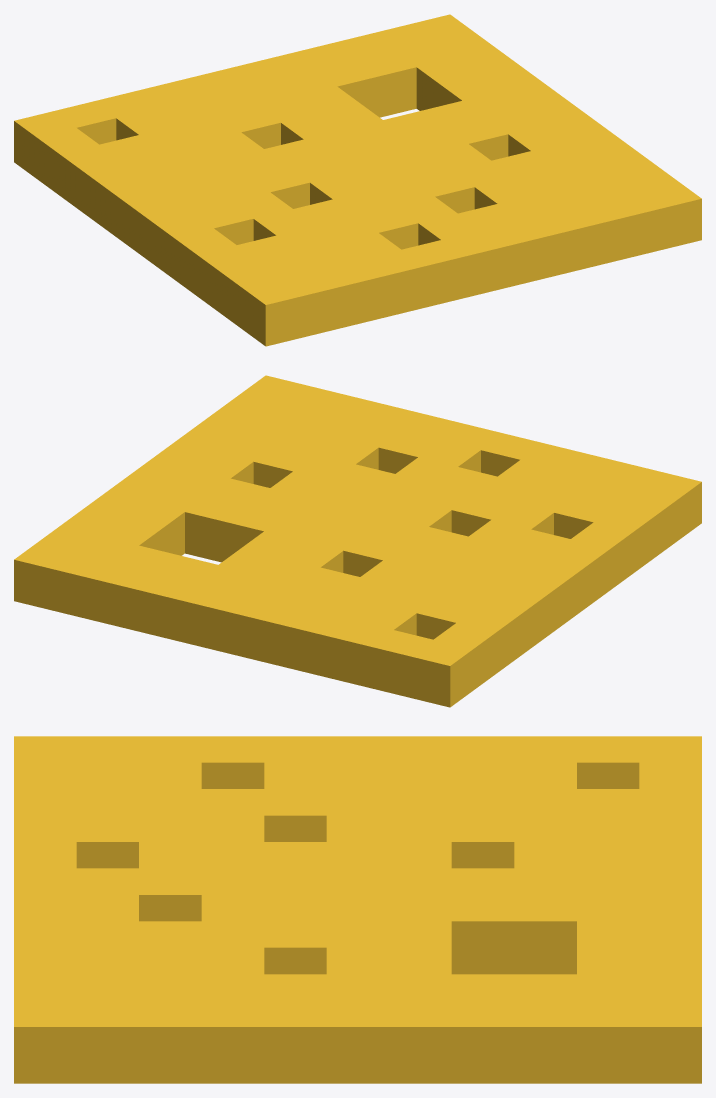
File: cheelse_slice.obj
The picture shows the model from 3 angles, top to bottom: view 1: azimuth 30°, elevation 25°; view 2: azimuth 150°, elevation 25°; view 3: azimuth 270°, elevation 25°; orthographic projection. The views are drawn at different scales.
Size of the model in its own units: 1.1 by 0.1 by 1.1.
1 material, 1 textured.
